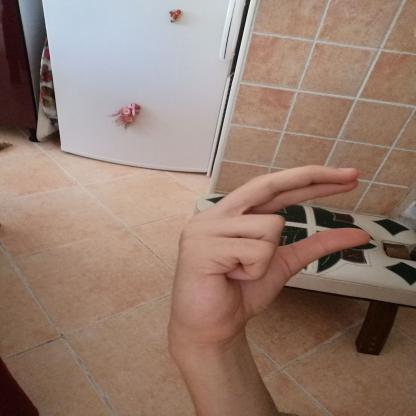DHELL: (161, 154, 382, 344)
